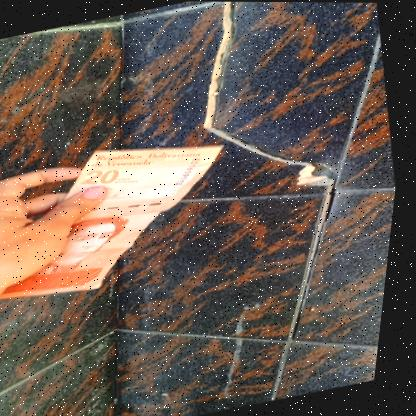twenty-front-vef: (0, 122, 254, 311)
